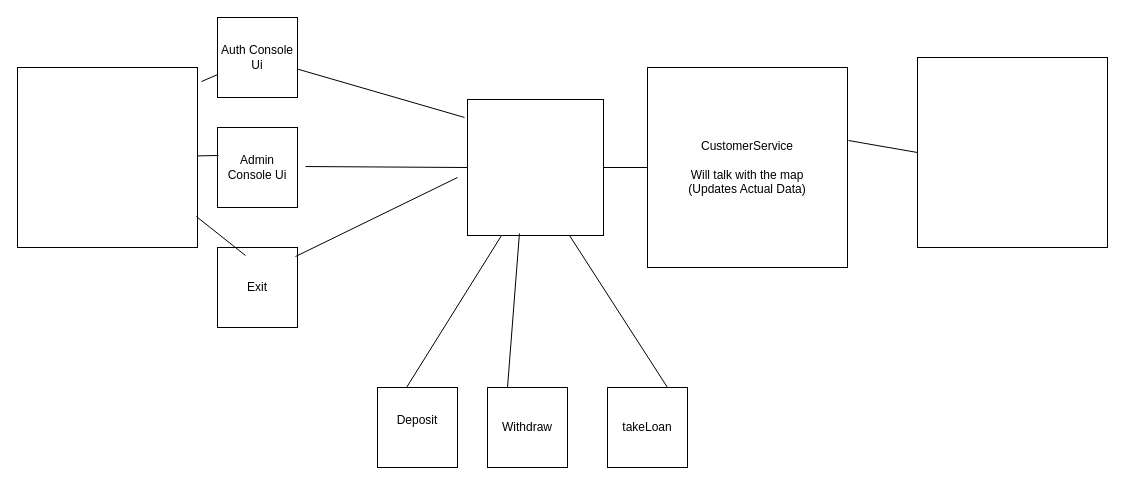
Image size: 1125x485. Some labels were removed from this diagram. The centre of each missing label's shape, as x and y in pixels:
"Dashboard (For Authenticated User) Ui based this page will ask for amounts" goes at point 535,167.
"Main Console Ui" goes at point 107,157.
"Map <String,Custome>" goes at point 1012,152.
